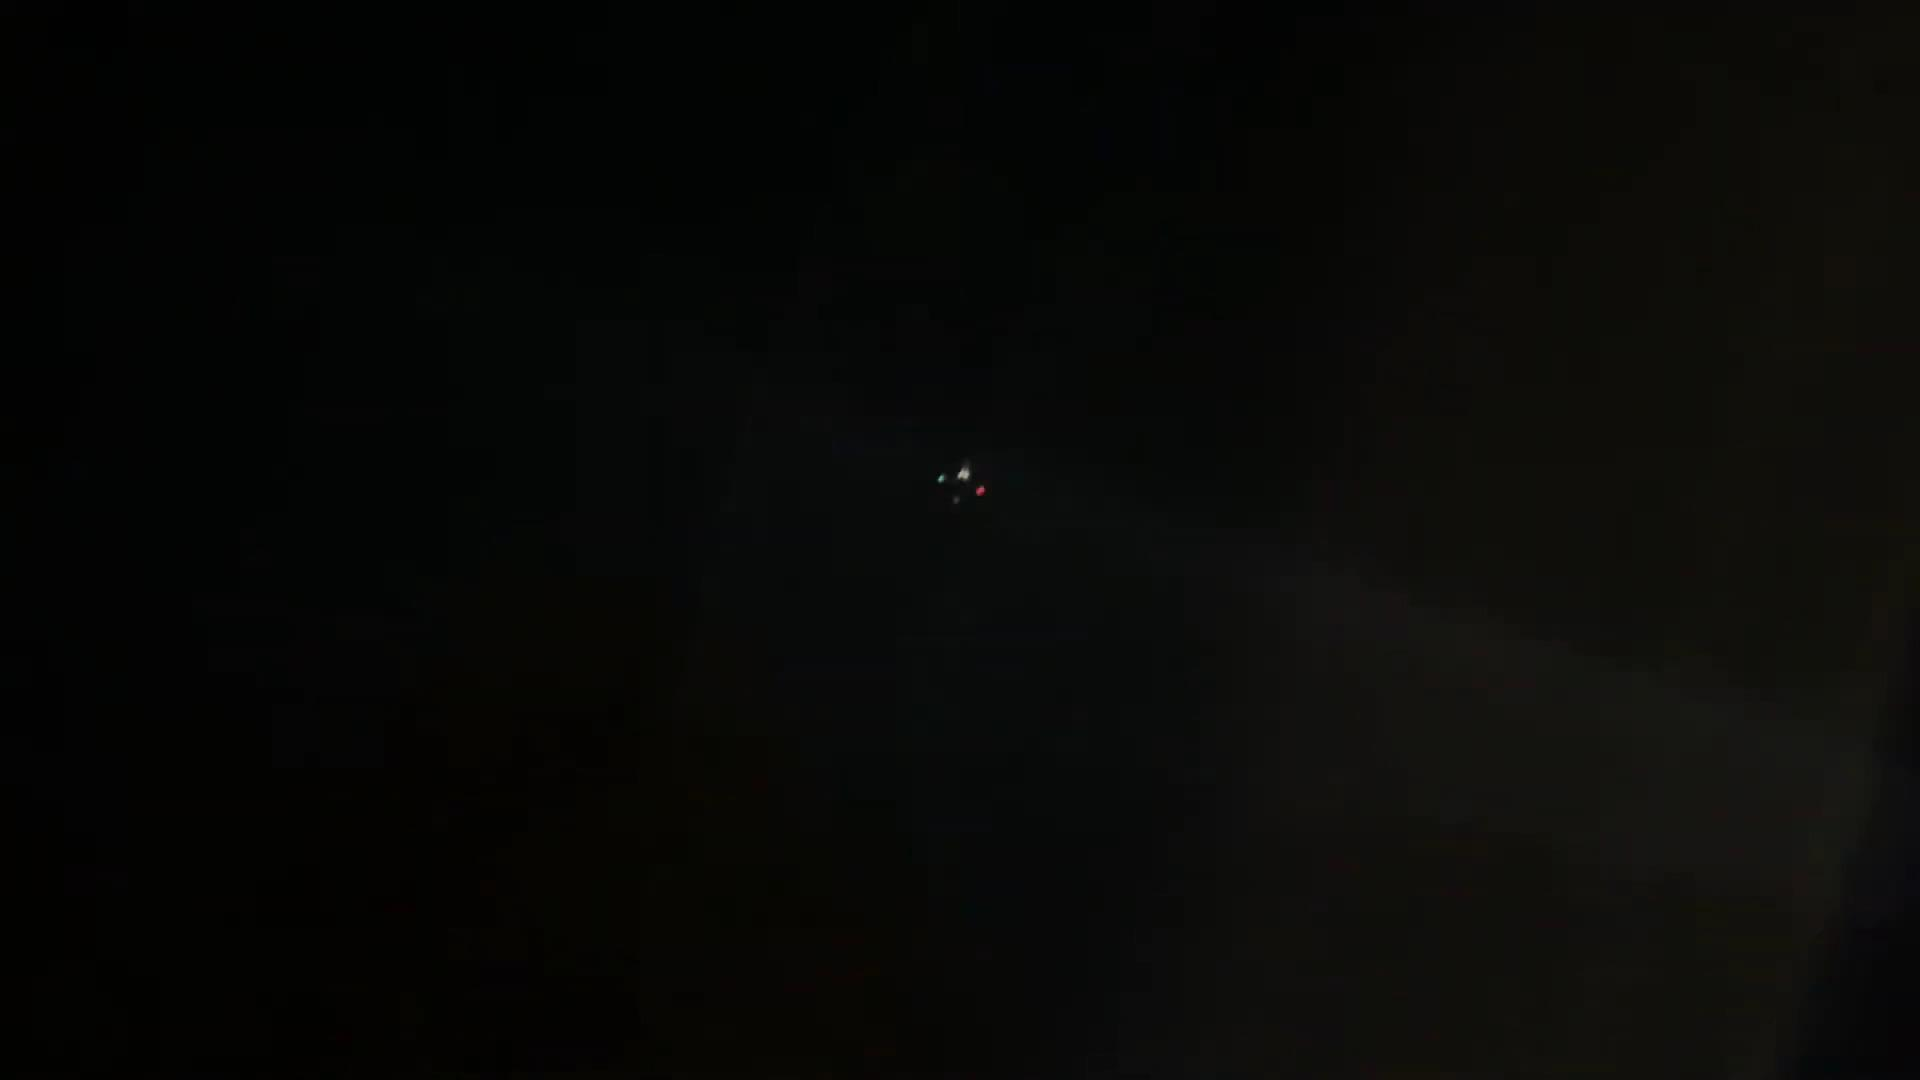Plane: (895, 448, 1031, 522)
